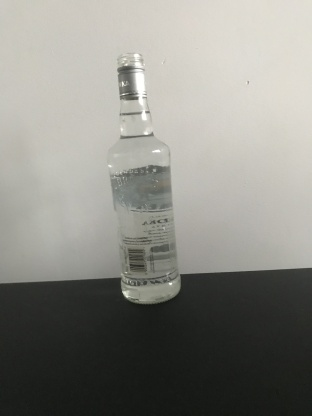nakretka: (114, 51, 149, 101)
